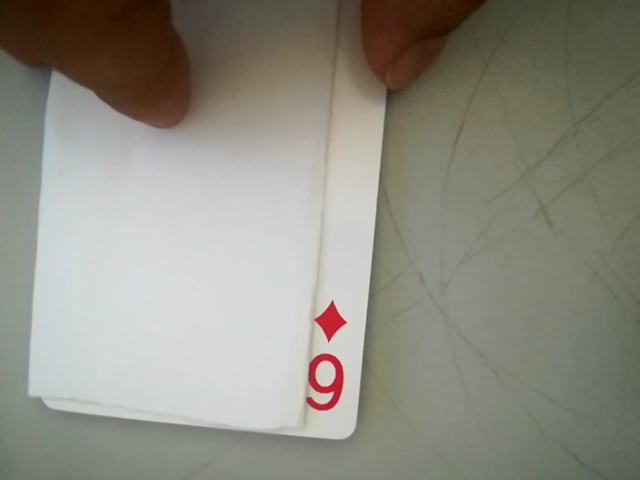fk 6: (293, 294, 358, 428)
